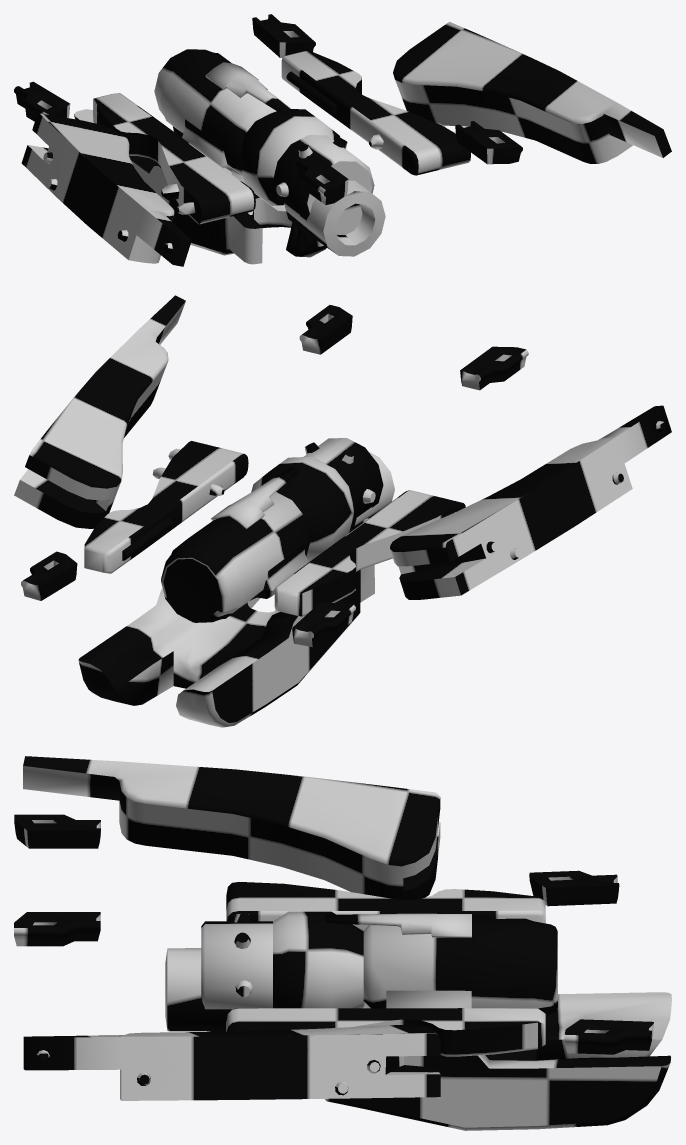
The model's file is pet_mirage.obj.
The picture shows the model from 3 angles, top to bottom: view 1: azimuth 30°, elevation 25°; view 2: azimuth 150°, elevation 25°; view 3: azimuth 270°, elevation 25°; orthographic projection. The views are drawn at different scales.
Parts seen in each view (by area): view 1: droneMesh; view 2: droneMesh; view 3: droneMesh.
Boxes of the visible parts, x1,y1,x2,y2 form: droneMesh: (14,14,671,266); droneMesh: (14,295,671,727); droneMesh: (14,756,671,1130).
Bounding box in the file's own units: 92.22 × 34.68 × 90.2.
1 material, 1 textured.
